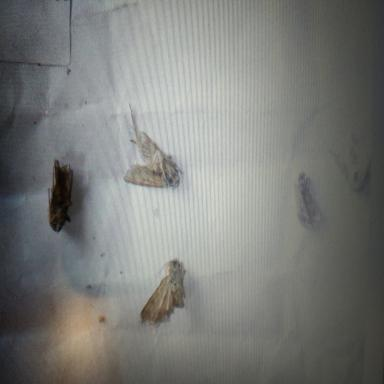abw: (116, 104, 182, 188), (138, 254, 185, 325), (292, 170, 322, 231)
pbw: (48, 158, 76, 232)
